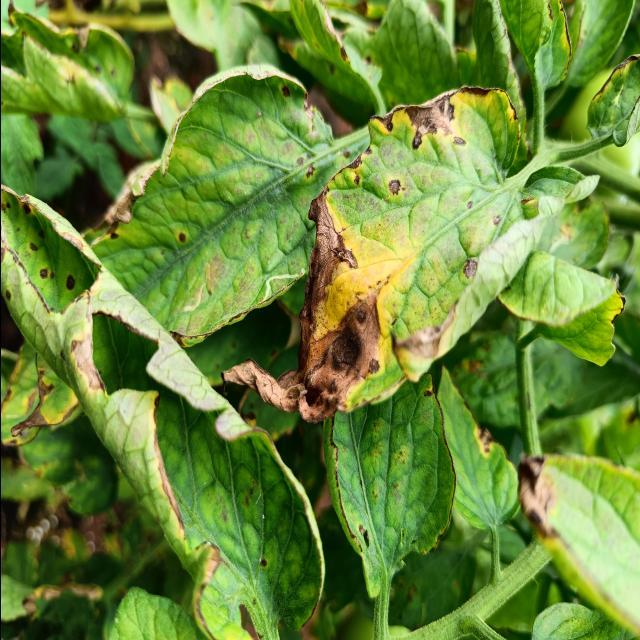Tomato mosaic virus leaf: (217, 80, 523, 426), (0, 168, 192, 446)
